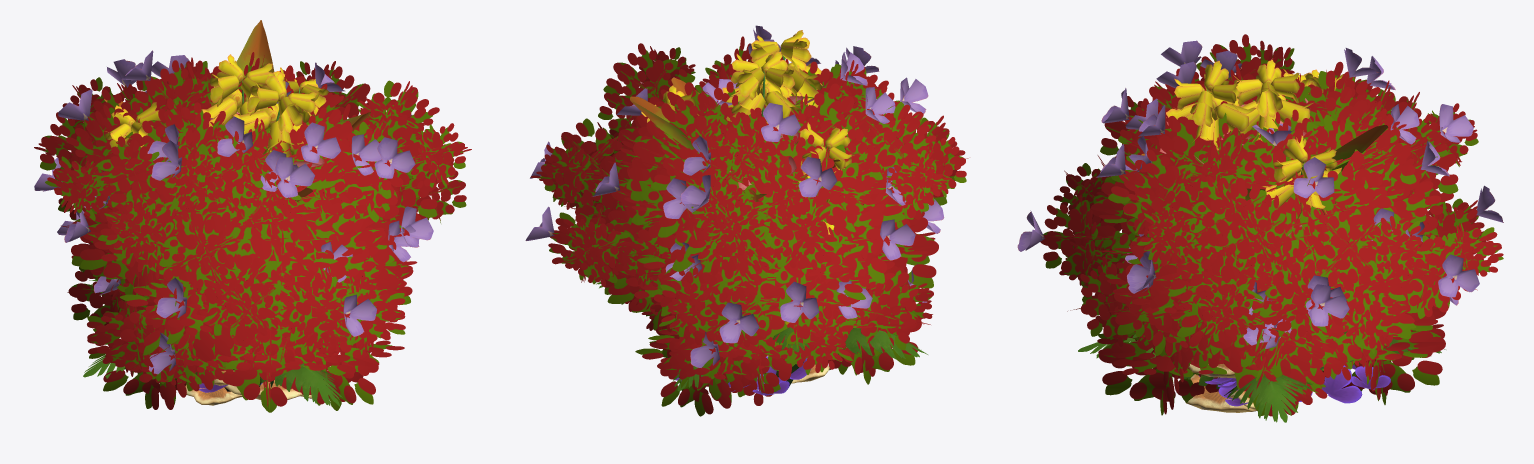
The model's file is plants.glb.
The picture shows the model from 3 angles, left to right: view 1: azimuth 30°, elevation 25°; view 2: azimuth 150°, elevation 25°; view 3: azimuth 270°, elevation 25°; orthographic projection. The views are drawn at different scales.
Visible parts, largest first — view 1: Bush_Common, Bush_Common_Flowers, Flower_4_Group, Flower_4_Single, Fern_1, Plant_1_Big, Mushroom_Laetiporus; view 2: Bush_Common, Bush_Common_Flowers, Flower_4_Group, Flower_4_Single, Fern_1, Plant_1_Big, Plant_7_Big; view 3: Bush_Common, Bush_Common_Flowers, Flower_4_Group, Flower_4_Single, Fern_1, Plant_7_Big, Mushroom_Laetiporus, Plant_1_Big.
Part boxes in pixels (bbox=[...]): Bush_Common: bbox=[34, 52, 471, 409]; Bush_Common_Flowers: bbox=[34, 50, 466, 412]; Flower_4_Group: bbox=[104, 67, 329, 387]; Flower_4_Single: bbox=[201, 54, 278, 141]; Fern_1: bbox=[83, 280, 404, 406]; Plant_1_Big: bbox=[104, 20, 370, 201]; Mushroom_Laetiporus: bbox=[185, 370, 312, 405]; Bush_Common: bbox=[531, 36, 968, 414]; Bush_Common_Flowers: bbox=[525, 25, 966, 416]; Flower_4_Group: bbox=[641, 30, 854, 389]; Flower_4_Single: bbox=[721, 51, 801, 123]; Fern_1: bbox=[588, 279, 927, 391]; Plant_1_Big: bbox=[630, 77, 840, 201]; Plant_7_Big: bbox=[675, 356, 811, 395]; Bush_Common: bbox=[1040, 34, 1503, 416]; Bush_Common_Flowers: bbox=[1017, 40, 1503, 415]; Flower_4_Group: bbox=[1166, 60, 1353, 370]; Flower_4_Single: bbox=[1228, 59, 1313, 142]; Fern_1: bbox=[1078, 331, 1445, 422]; Plant_7_Big: bbox=[1198, 364, 1390, 406]; Mushroom_Laetiporus: bbox=[1185, 363, 1257, 412]; Plant_1_Big: bbox=[1141, 108, 1415, 200].
Bounding box in the file's own units: 1.53 × 1.28 × 1.57.
Materials: 6 (6 with a texture image).
